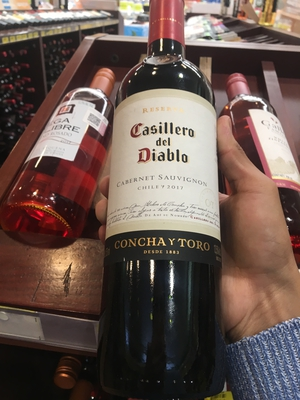casillero del diablo cabernet sauvignon: (106, 9, 227, 376)
